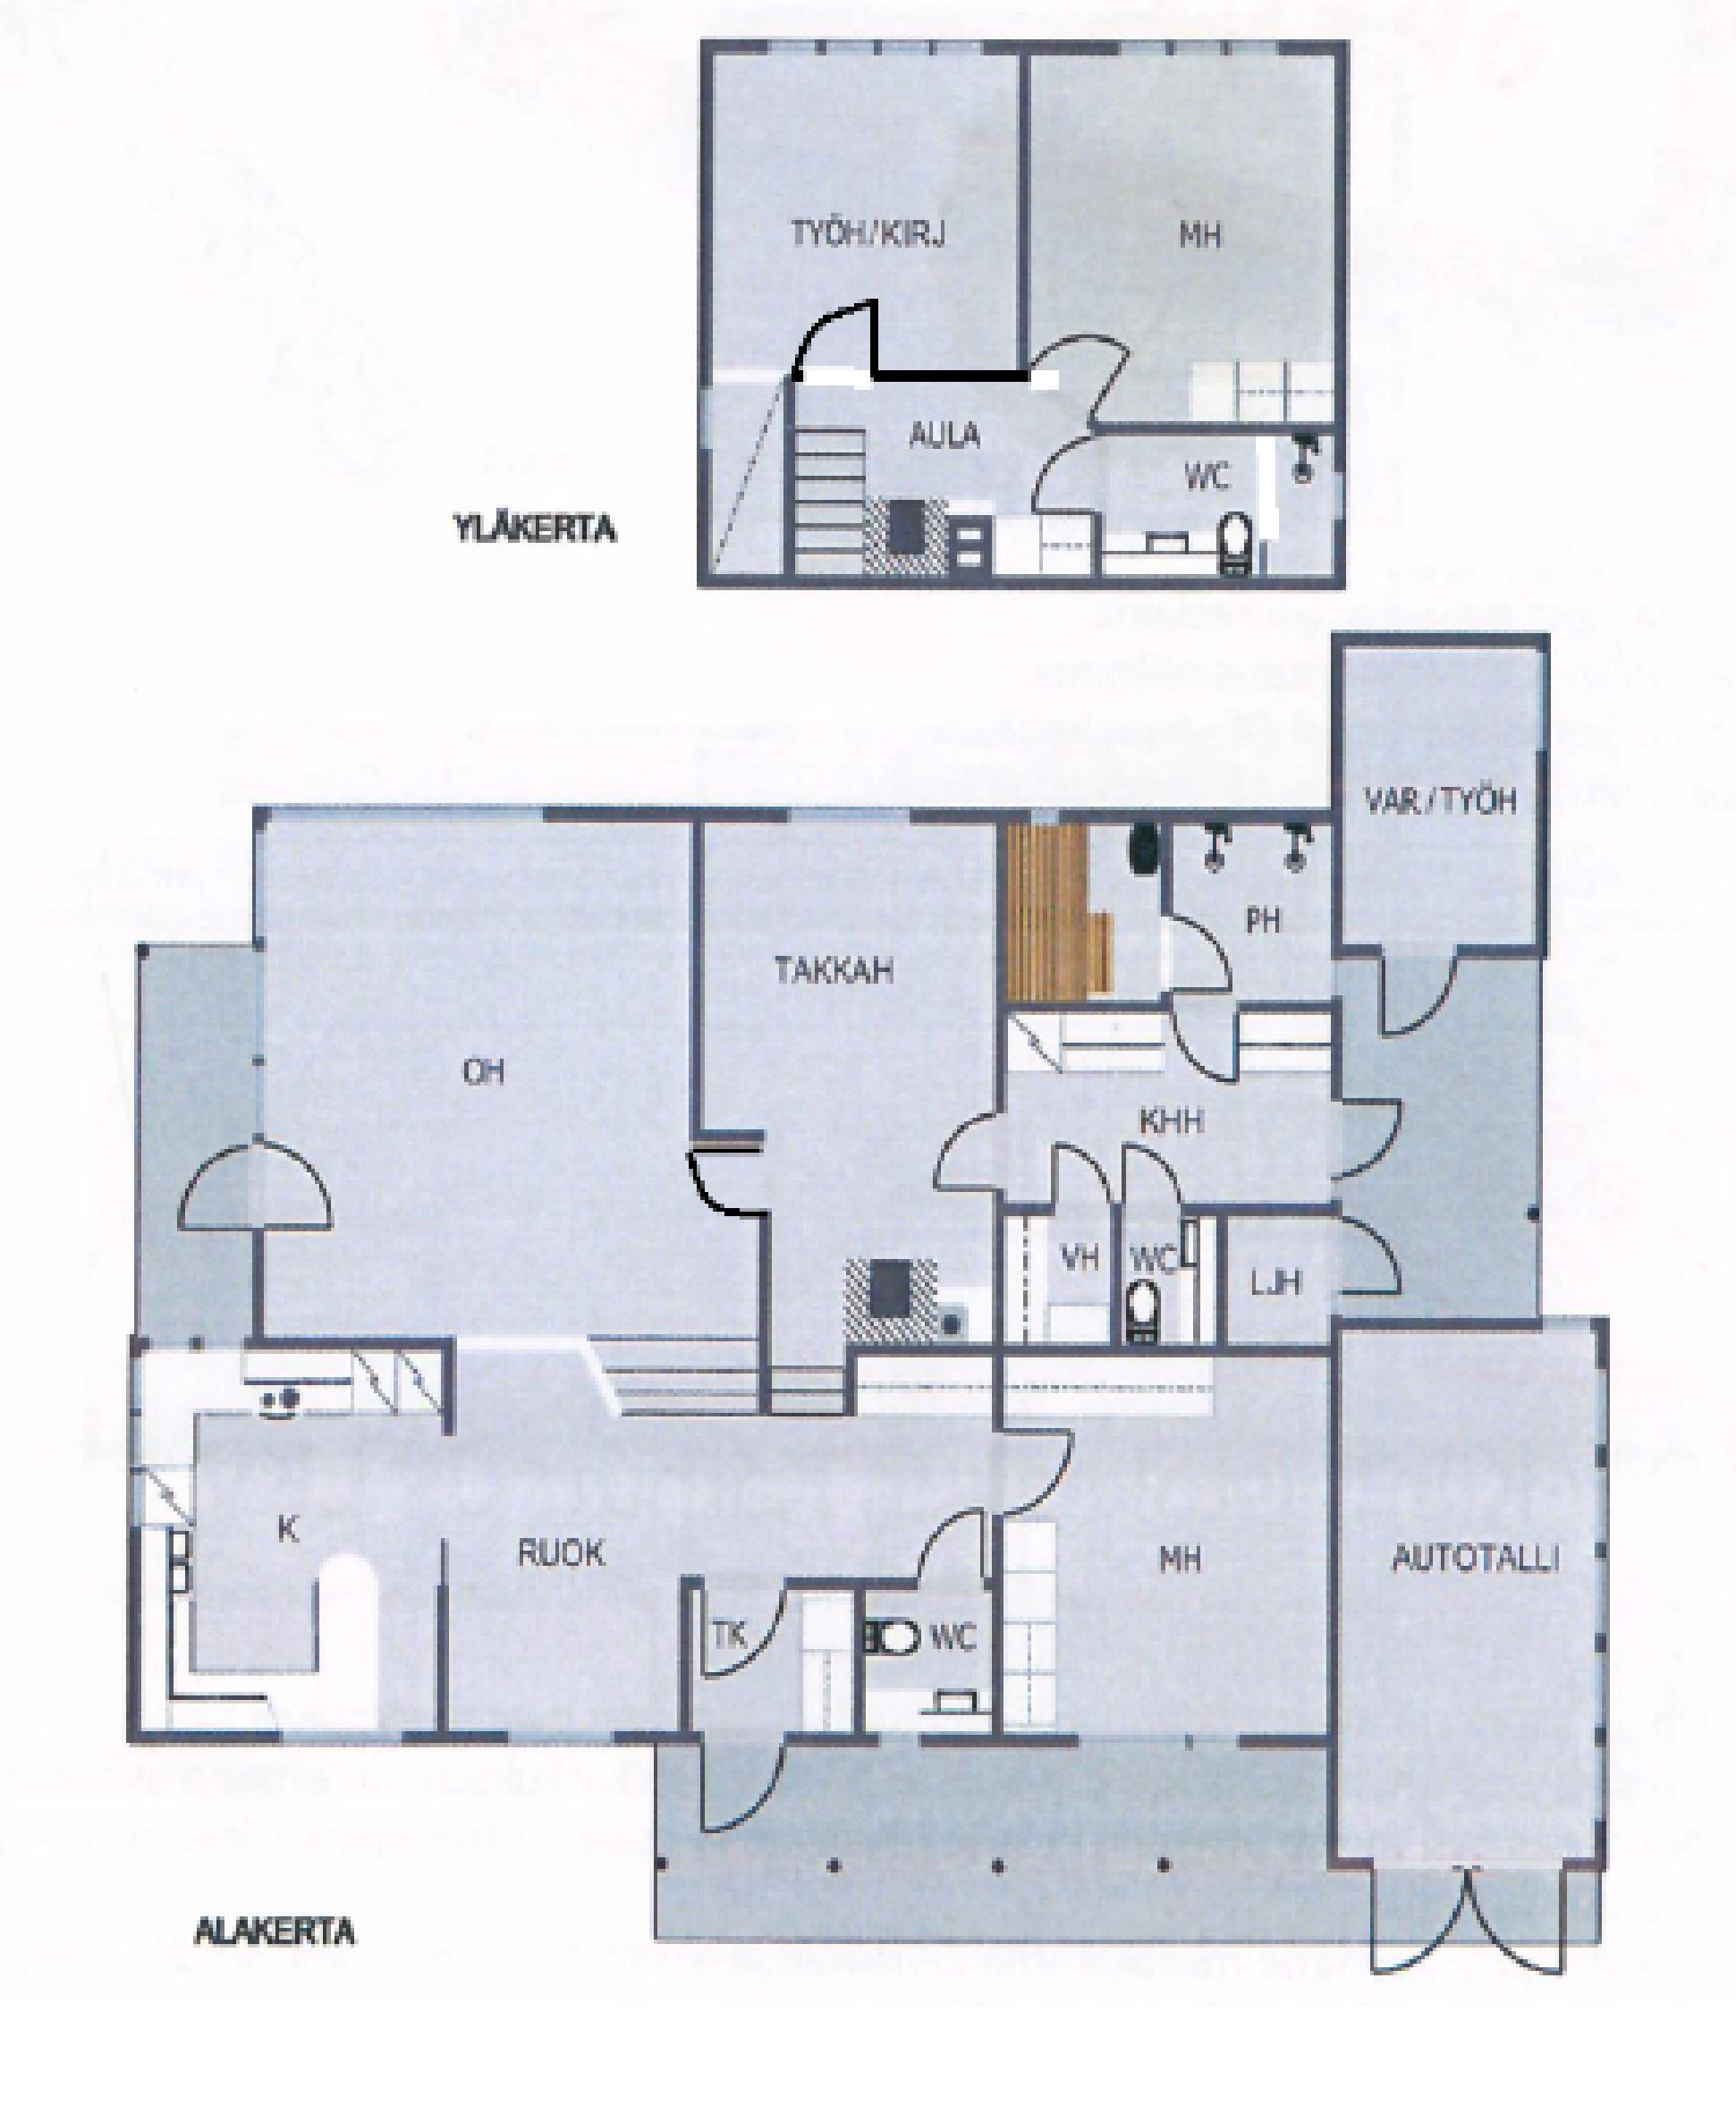door: (1348, 1853, 1573, 1990), (173, 1119, 343, 1257), (685, 1565, 794, 1684), (691, 1731, 795, 1831), (1030, 336, 1135, 427), (1017, 430, 1122, 516), (1164, 993, 1246, 1091), (916, 1110, 1010, 1191), (1379, 949, 1460, 1044), (991, 1435, 1077, 1519), (911, 1504, 988, 1596), (1325, 1219, 1420, 1292), (1150, 916, 1236, 997), (682, 1136, 764, 1217), (795, 297, 869, 385), (1322, 1100, 1399, 1177), (1117, 1149, 1196, 1220), (1045, 1157, 1112, 1219)
window: (1591, 1365, 1615, 1839), (1110, 35, 1278, 72), (750, 33, 979, 56), (281, 1724, 406, 1762), (248, 811, 276, 932), (507, 1727, 612, 1757), (780, 811, 923, 832), (1021, 802, 1059, 825)
zone: (262, 809, 755, 1358), (661, 1740, 1587, 1967), (441, 1371, 1003, 1726), (1336, 1315, 1598, 1871), (764, 811, 1000, 1337), (124, 1348, 446, 1731), (1017, 1358, 1322, 1741), (708, 386, 1332, 570), (1030, 49, 1322, 416), (706, 54, 1026, 378), (1344, 962, 1547, 1330), (1005, 1011, 1339, 1222), (1334, 636, 1524, 956), (1012, 1203, 1236, 1348), (1166, 811, 1325, 997), (998, 827, 1161, 1004), (1231, 1213, 1343, 1339)
